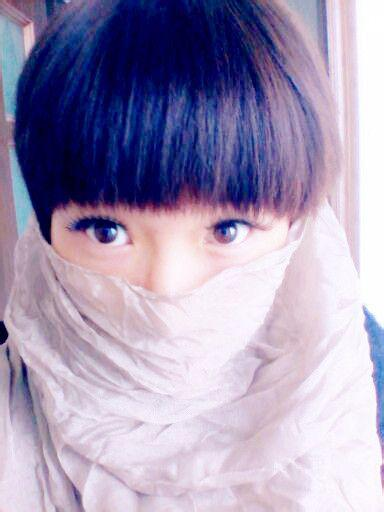WRONG: (63, 183, 272, 390)
